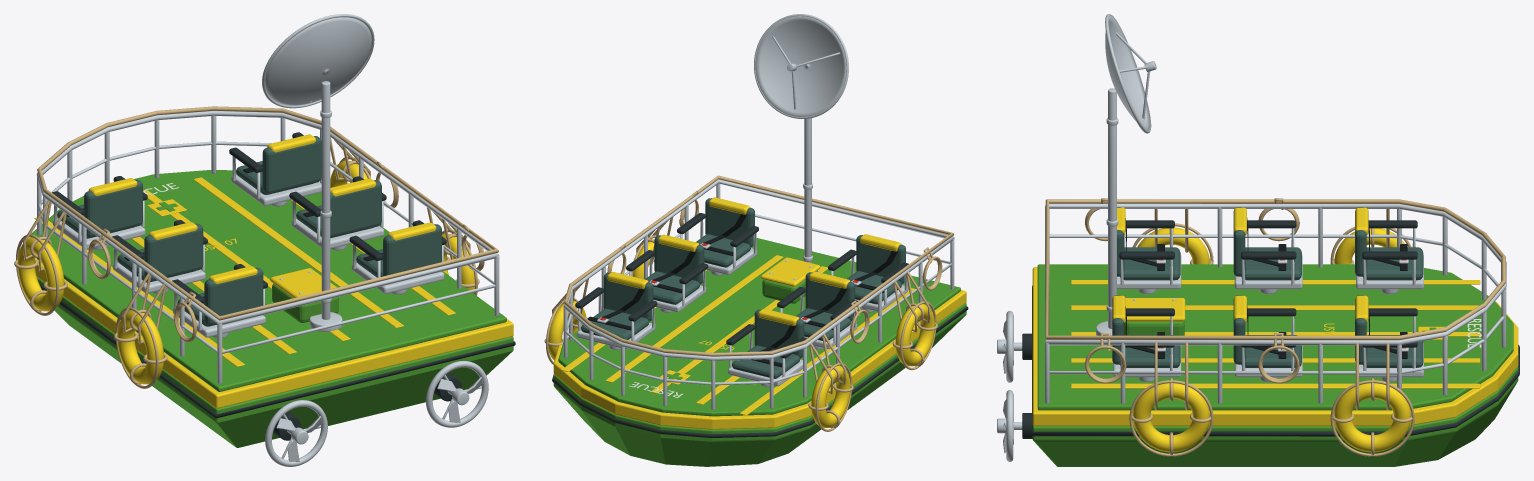
The model's file is RescueBoat.fbx.
3 renders of one model, left to right at view 1: azimuth 30°, elevation 25°; view 2: azimuth 150°, elevation 25°; view 3: azimuth 270°, elevation 25°, orthographic. The views are drawn at different scales.
Parts seen in each view (by area): view 1: Green_working_deck, Hull___7_cm_length___5_cm_beam, Yellow_hull_band, Metal_parabolic_dish_antenna, Top_rail___height_1_cm, Perimeter_rescue_rope___continuous_loop, Mid_rail, Starboard_Seat_3_backrest, Port_Seat_2_backrest, Port_Seat_3_backrest, Antenna_metal_mast, Starboard_Seat_2_backrest (+21 smaller); view 2: Green_working_deck, Hull___7_cm_length___5_cm_beam, Metal_parabolic_dish_antenna, Yellow_hull_band, Top_rail___height_1_cm, Perimeter_rescue_rope___continuous_loop, Mid_rail, Continuous_rubber_rubbing_strake, Port_yellow_lifebuoy_1, Port_yellow_lifebuoy_2, Alternating_yellow_deck_stripe_003, Starboard_Seat_3_backrest (+20 smaller); view 3: Green_working_deck, Hull___7_cm_length___5_cm_beam, Yellow_hull_band, Perimeter_rescue_rope___continuous_loop, Top_rail___height_1_cm, Mid_rail, Starboard_yellow_lifebuoy_2, Starboard_yellow_lifebuoy_1, Continuous_rubber_rubbing_strake, Metal_parabolic_dish_antenna, Antenna_metal_mast, Alternating_yellow_deck_stripe_004 (+23 smaller).
Boxes of the visible parts, x1,y1,x2,y2 form: Green_working_deck: (31,170,506,391); Hull___7_cm_length___5_cm_beam: (37,277,513,447); Yellow_hull_band: (28,230,513,408); Metal_parabolic_dish_antenna: (265,17,371,105); Top_rail___height_1_cm: (36,111,499,324); Perimeter_rescue_rope___continuous_loop: (37,106,498,320); Mid_rail: (38,141,495,353); Starboard_Seat_3_backrest: (262,136,321,193); Port_Seat_2_backrest: (144,223,203,281); Port_Seat_3_backrest: (84,179,142,237); Antenna_metal_mast: (321,81,330,319); Starboard_Seat_2_backrest: (330,180,381,237); Green_working_deck: (558,238,960,416); Hull___7_cm_length___5_cm_beam: (553,303,966,466); Metal_parabolic_dish_antenna: (755,16,846,116); Yellow_hull_band: (553,290,966,429); Top_rail___height_1_cm: (563,179,954,360); Perimeter_rescue_rope___continuous_loop: (564,175,954,356); Mid_rail: (565,214,952,385); Continuous_rubber_rubbing_strake: (552,306,968,437); Port_yellow_lifebuoy_1: (895,303,934,366); Port_yellow_lifebuoy_2: (811,365,850,427); Alternating_yellow_deck_stripe_003: (605,255,783,382); Starboard_Seat_3_backrest: (603,272,653,321); Green_working_deck: (1037,264,1513,410); Hull___7_cm_length___5_cm_beam: (1032,366,1518,466); Yellow_hull_band: (1032,267,1518,426); Perimeter_rescue_rope___continuous_loop: (1045,199,1505,340); Top_rail___height_1_cm: (1045,203,1506,345); Mid_rail: (1049,234,1504,374); Starboard_yellow_lifebuoy_2: (1334,383,1410,452); Starboard_yellow_lifebuoy_1: (1133,383,1209,452); Continuous_rubber_rubbing_strake: (1032,285,1519,436); Metal_parabolic_dish_antenna: (1105,16,1150,130); Antenna_metal_mast: (1108,88,1116,328); Alternating_yellow_deck_stripe_004: (1071,383,1480,388).
Bounding box in the file's own units: 0.056 × 0.0634 × 0.0754.
